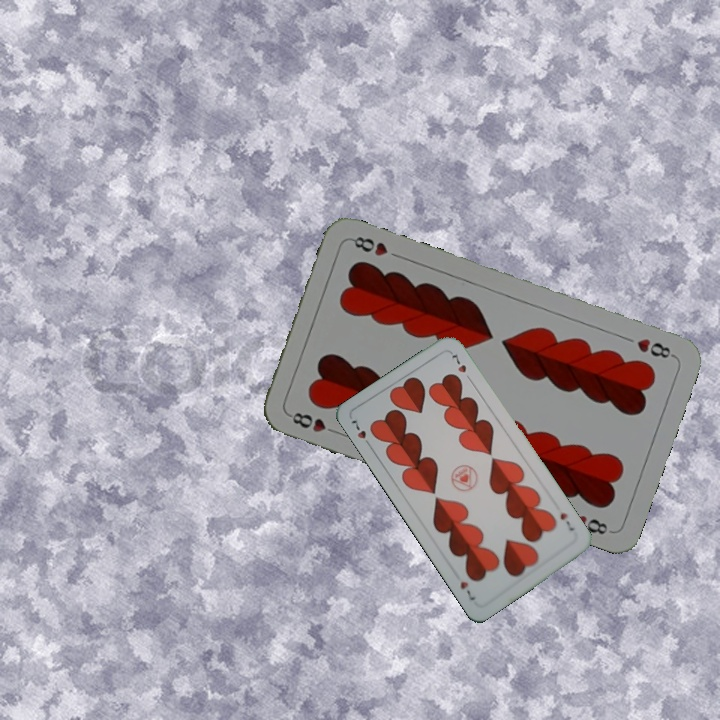H7: (347, 416, 374, 451), (556, 509, 577, 534)
H8: (284, 408, 342, 437), (632, 334, 677, 361)
